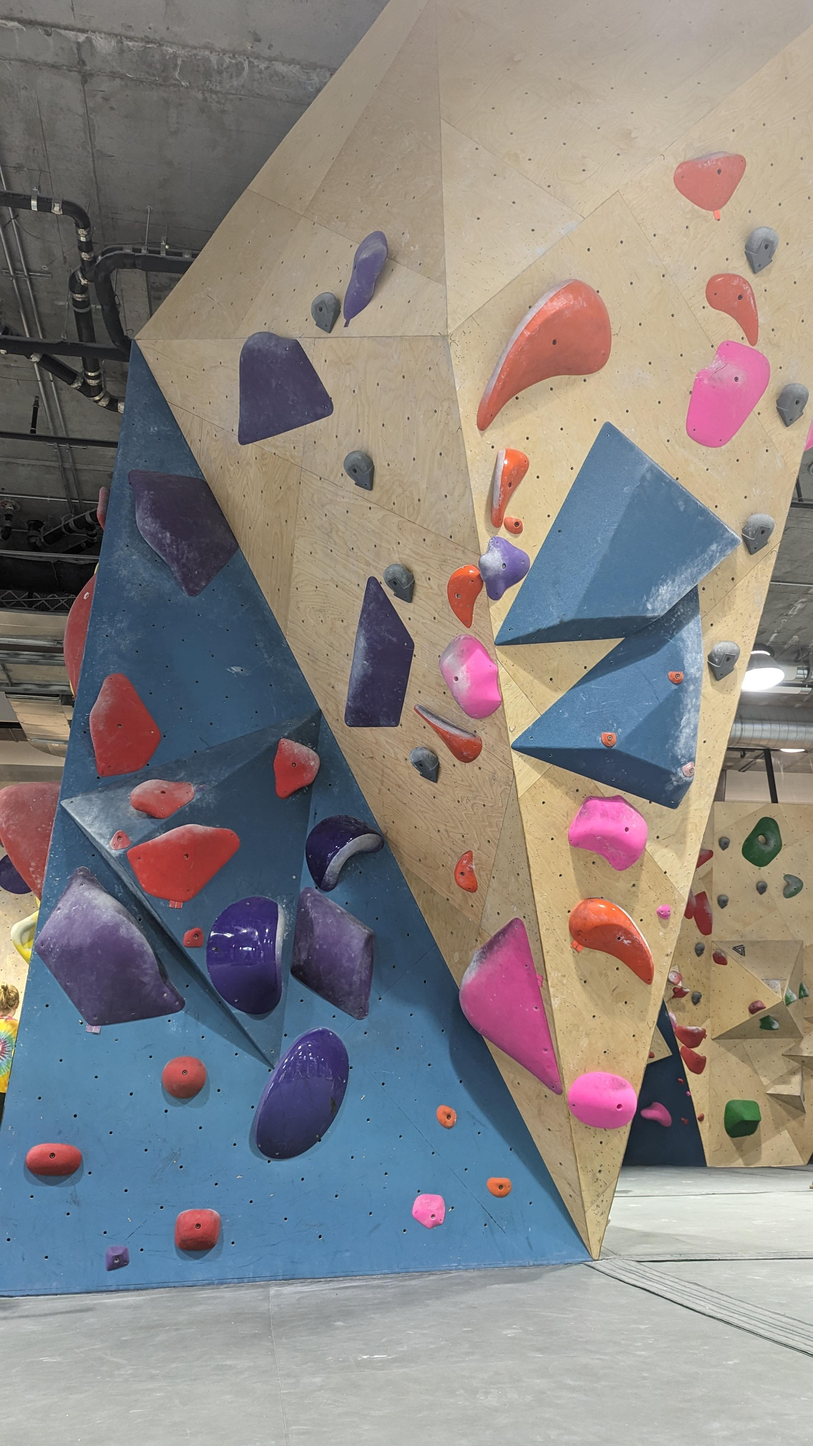black-hold: (9, 857, 193, 1060), (435, 268, 632, 433), (443, 915, 564, 1112), (113, 442, 251, 606), (240, 1015, 367, 1176), (206, 316, 337, 448), (664, 329, 783, 459), (124, 806, 254, 917), (338, 575, 427, 737), (285, 885, 380, 1021), (559, 886, 677, 986), (203, 894, 286, 1016), (286, 797, 388, 896), (561, 781, 661, 877), (83, 667, 166, 778), (426, 627, 518, 727), (0, 772, 61, 902), (696, 261, 784, 349), (665, 131, 751, 218), (332, 225, 396, 326), (54, 568, 98, 699), (462, 531, 536, 608), (401, 703, 487, 768), (565, 1069, 639, 1131), (262, 736, 325, 807), (488, 447, 532, 531), (437, 559, 489, 629), (736, 812, 793, 873), (128, 776, 196, 822), (735, 221, 784, 278), (732, 507, 781, 560), (698, 633, 748, 682), (767, 377, 813, 428), (173, 1206, 222, 1253), (160, 1055, 208, 1100), (303, 287, 346, 334), (402, 742, 449, 784), (25, 1143, 82, 1176), (378, 561, 419, 604), (409, 1192, 448, 1231), (341, 449, 376, 492), (724, 1099, 761, 1138), (450, 850, 479, 895), (431, 1102, 461, 1131), (93, 486, 112, 530), (105, 828, 134, 856), (106, 1245, 130, 1271), (486, 1177, 512, 1198), (783, 874, 803, 899), (777, 985, 798, 1007), (654, 901, 675, 921), (183, 927, 204, 947), (503, 516, 524, 534), (680, 760, 699, 779), (759, 1015, 780, 1030), (600, 732, 617, 747), (796, 982, 810, 999), (668, 671, 684, 683)
